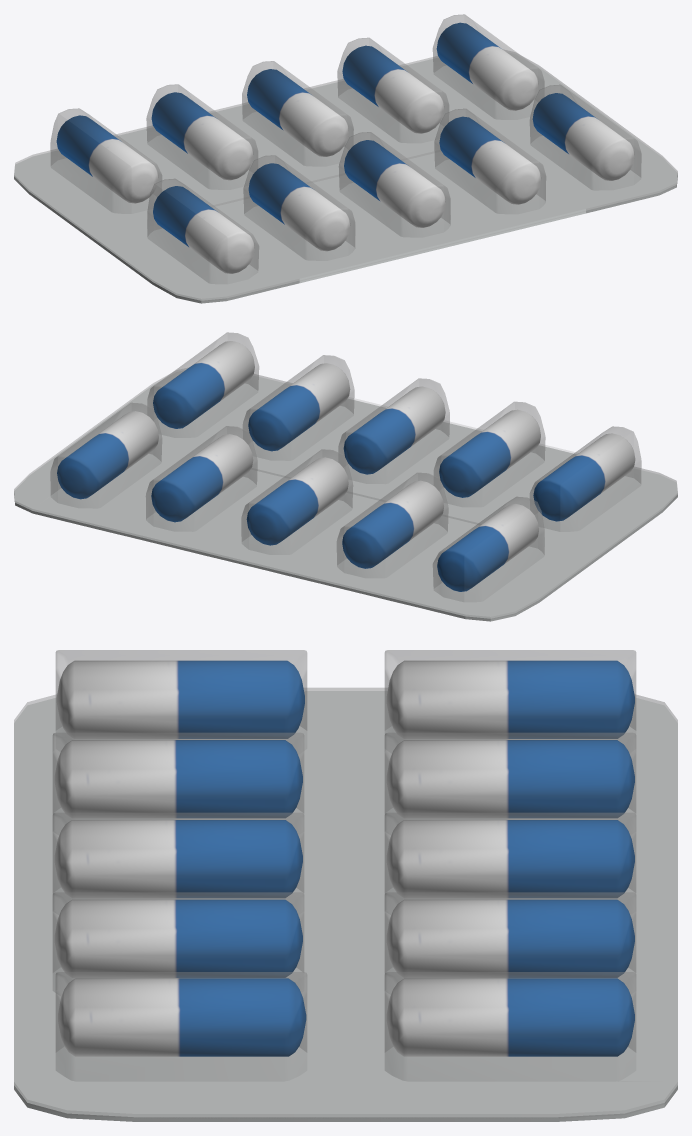
Rendered from Meds_Split.FBX.
3 renders of one model, top to bottom at view 1: azimuth 30°, elevation 25°; view 2: azimuth 150°, elevation 25°; view 3: azimuth 270°, elevation 25°, orthographic. The views are drawn at different scales.
Parts seen in each view (by area): view 1: Pills02, Pills09, Pills01, Pills07, Pills05, Pills04, Pills10, Pills08, Pills06, Pills03; view 2: Pills01, Pills10, Pills02, Pills08, Pills06, Pills03, Pills09, Pills07, Pills05, Pills04; view 3: Pills09, Pills10, Pills01, Pills02, Pills03, Pills04, Pills05, Pills06, Pills07, Pills08.
Part boxes in pixels (<box>): Pills02: <box>91,178,299,303</box>; Pills09: <box>498,84,677,213</box>; Pills01: <box>14,108,171,239</box>; Pills07: <box>401,108,585,236</box>; Pills05: <box>306,132,490,259</box>; Pills04: <box>210,155,394,283</box>; Pills10: <box>399,14,600,137</box>; Pills08: <box>304,37,458,160</box>; Pills06: <box>209,61,363,183</box>; Pills03: <box>114,84,267,206</box>; Pills01: <box>392,496,600,621</box>; Pills10: <box>14,402,193,531</box>; Pills02: <box>520,426,677,557</box>; Pills08: <box>106,426,289,554</box>; Pills06: <box>201,449,384,577</box>; Pills03: <box>296,472,479,601</box>; Pills09: <box>91,332,292,455</box>; Pills07: <box>234,355,386,478</box>; Pills05: <box>330,378,481,501</box>; Pills04: <box>425,401,576,524</box>; Pills09: <box>14,972,345,1121</box>; Pills10: <box>346,972,677,1121</box>; Pills01: <box>346,650,677,784</box>; Pills02: <box>14,650,345,784</box>; Pills03: <box>346,732,677,864</box>; Pills04: <box>14,732,345,864</box>; Pills05: <box>14,812,345,943</box>; Pills06: <box>346,812,677,943</box>; Pills07: <box>14,892,345,1023</box>; Pills08: <box>346,892,677,1023</box>.
Size of the model in its own units: 8.18 by 0.8267 by 5.39.
3 materials, 2 textured.
